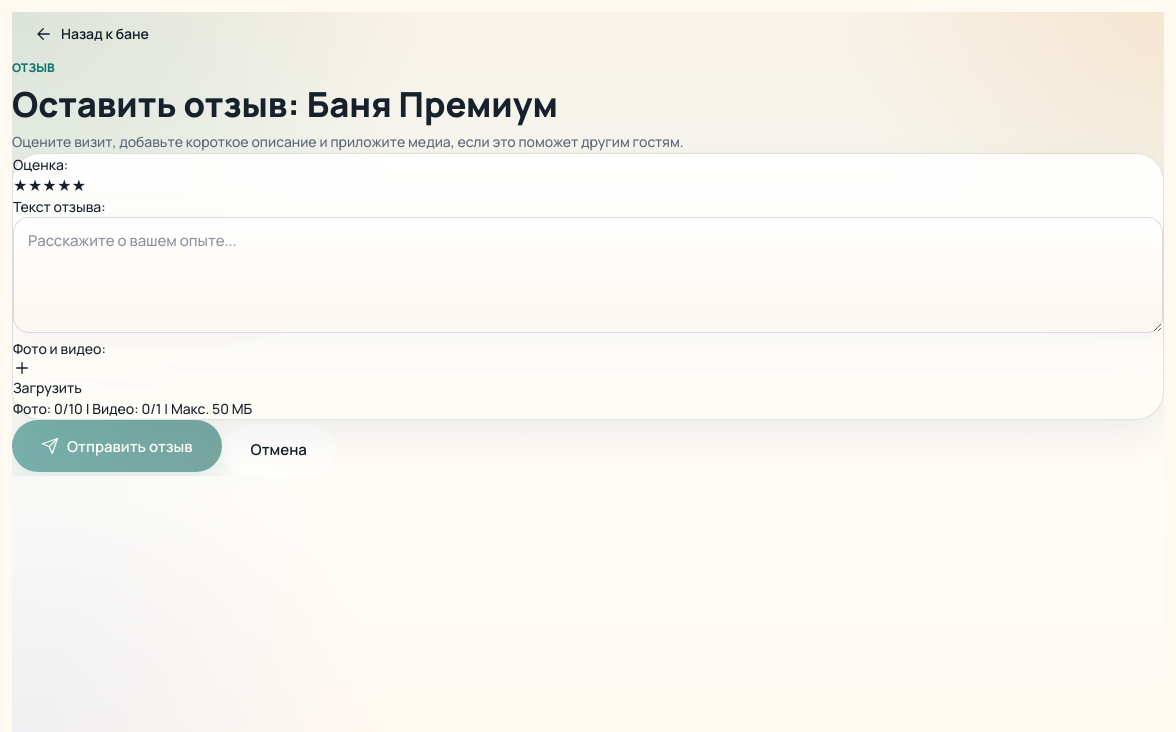
Test case: ReviewForm › renders rating labels when rating selected
Click the 5th radio button labelled "★" at {"x": 79, "y": 186}, box [72, 175, 86, 196]
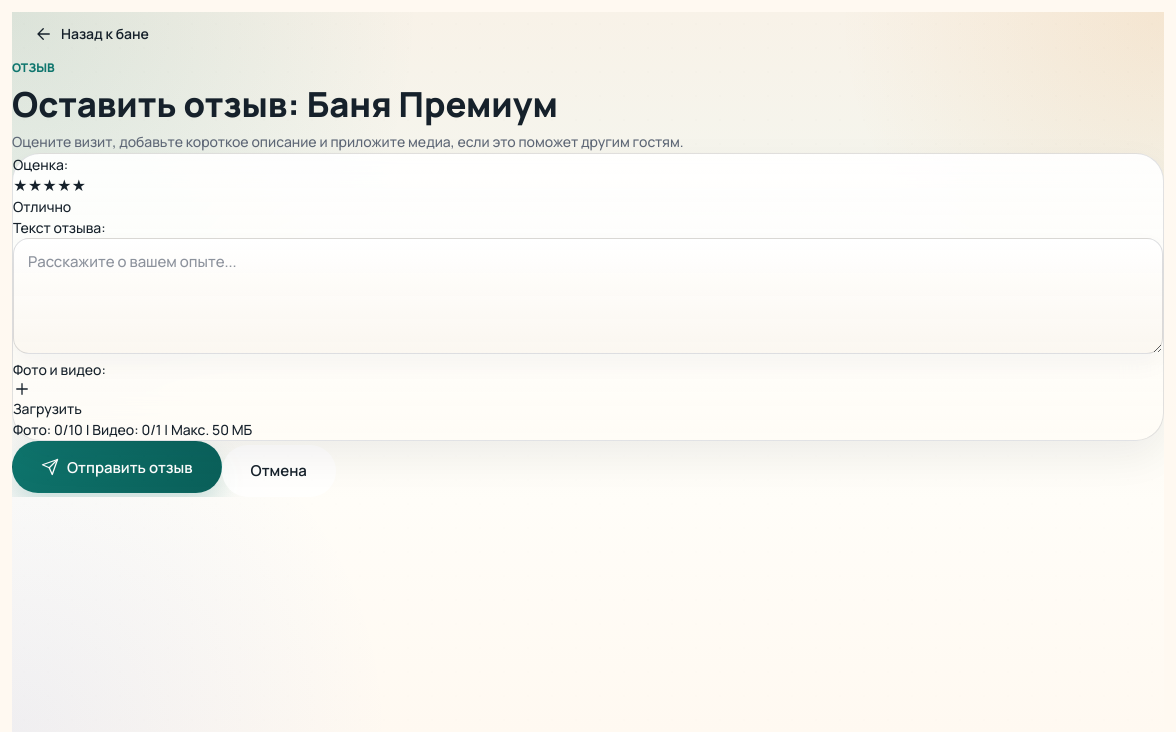
Expected: the text "Отлично" is shown, [13, 197, 71, 216]
